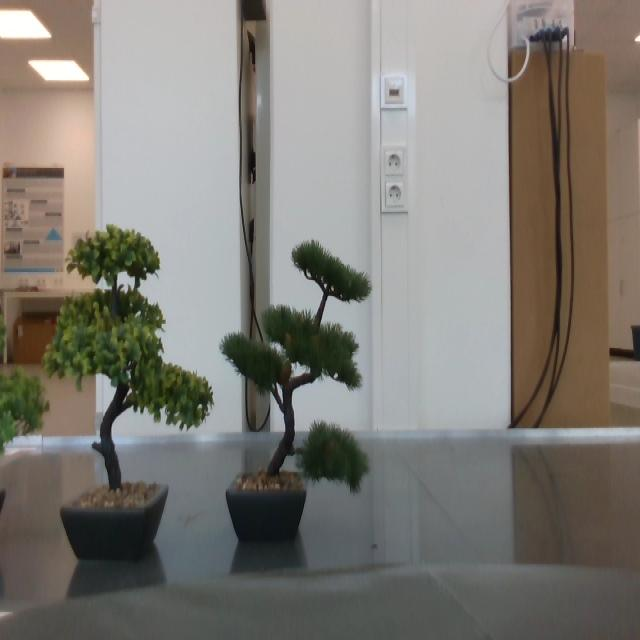potted plant: (46, 224, 216, 558), (221, 238, 372, 538), (1, 302, 43, 490)
